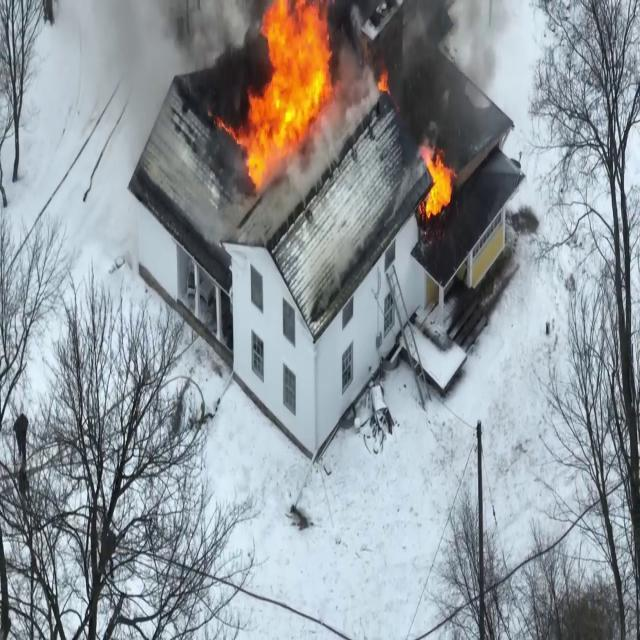Fire: (232, 0, 341, 194), (417, 139, 457, 225), (375, 61, 393, 97)
Smoke: (375, 0, 479, 147)
